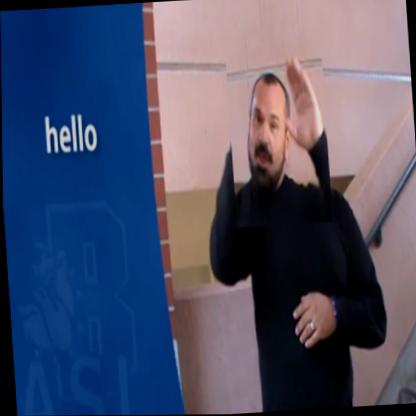Hello: (224, 39, 331, 227)
